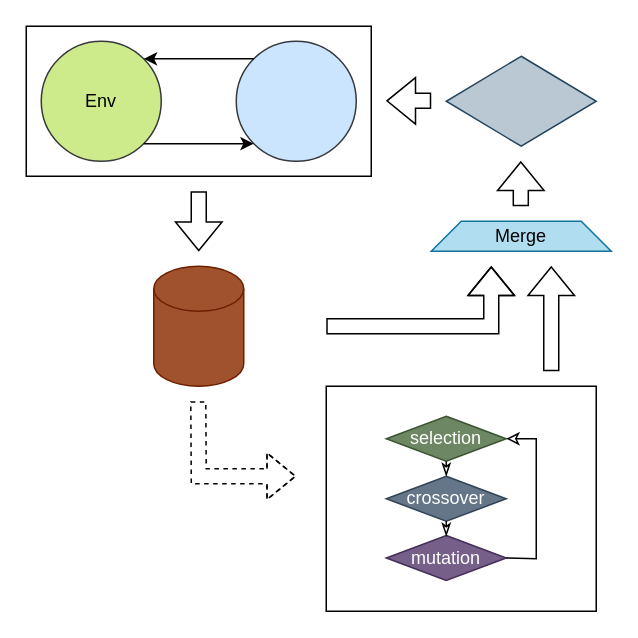
Some shapes in this 638 by 638 pixel diagram are drawn without their labels. The shapes that lost their labels are listed below. From the top down, each one's centre as x and y in pixels, then its label:
At point 295,100: "Agent".
At point 520,100: "REINFORCE".
At point 198,325: "traj".
